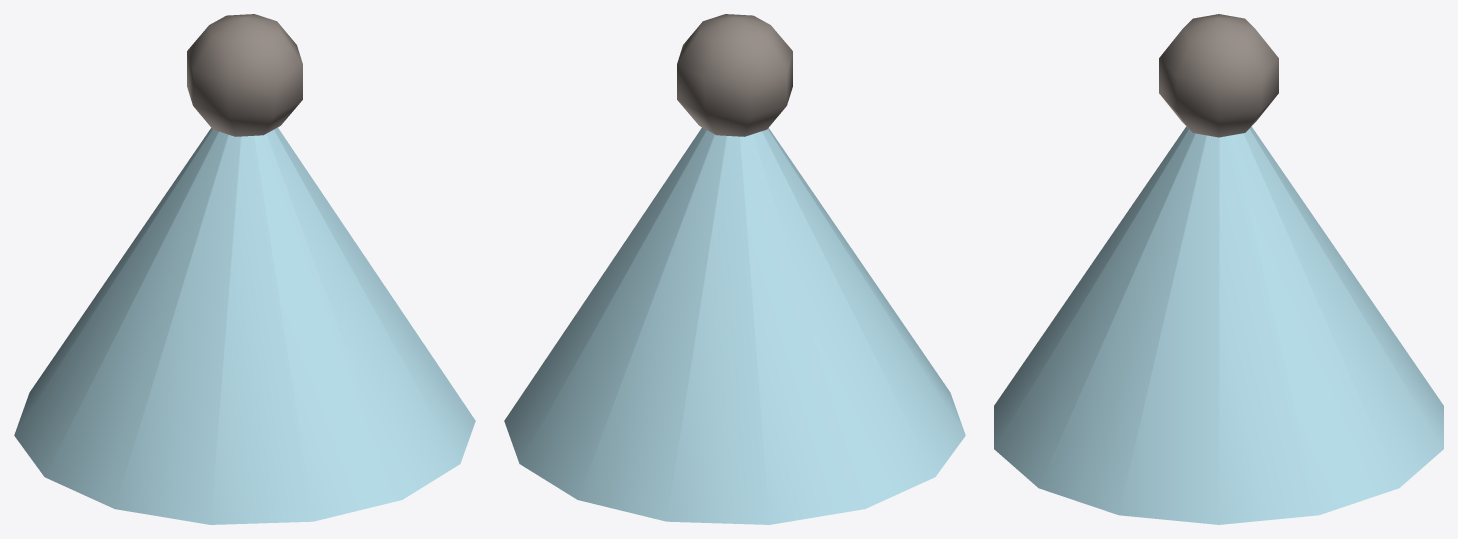
Rendered from hat_party.glb.
3 views of the same model, side by side, from view 1: azimuth 30°, elevation 25°; view 2: azimuth 150°, elevation 25°; view 3: azimuth 270°, elevation 25° (orthographic).
Parts seen in each view (by area): view 1: hat_party; view 2: hat_party; view 3: hat_party.
Part boxes in pixels (box(x1,y1,x2,y2)): hat_party: box(14, 14, 475, 524); hat_party: box(504, 14, 965, 524); hat_party: box(994, 14, 1443, 524).
Bounding box in the file's own units: 22 × 21.5 × 21.45.
